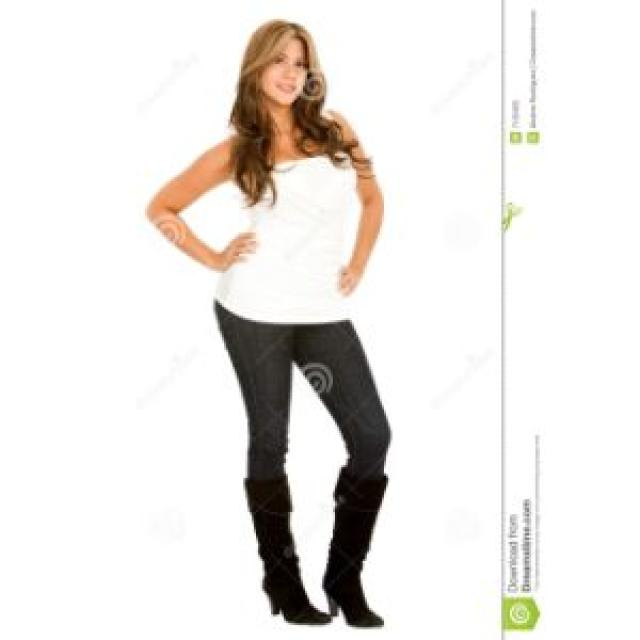adult: (139, 4, 414, 638)
